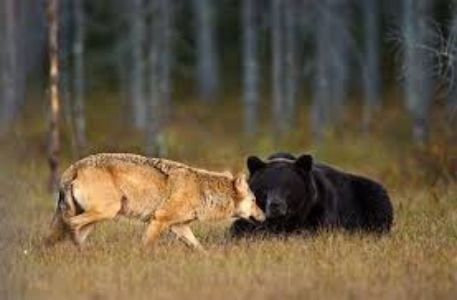bear: (250, 144, 393, 249)
wolf: (43, 148, 249, 275)
